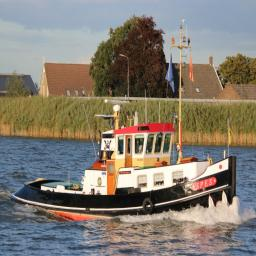tugboat: (8, 97, 239, 226)
